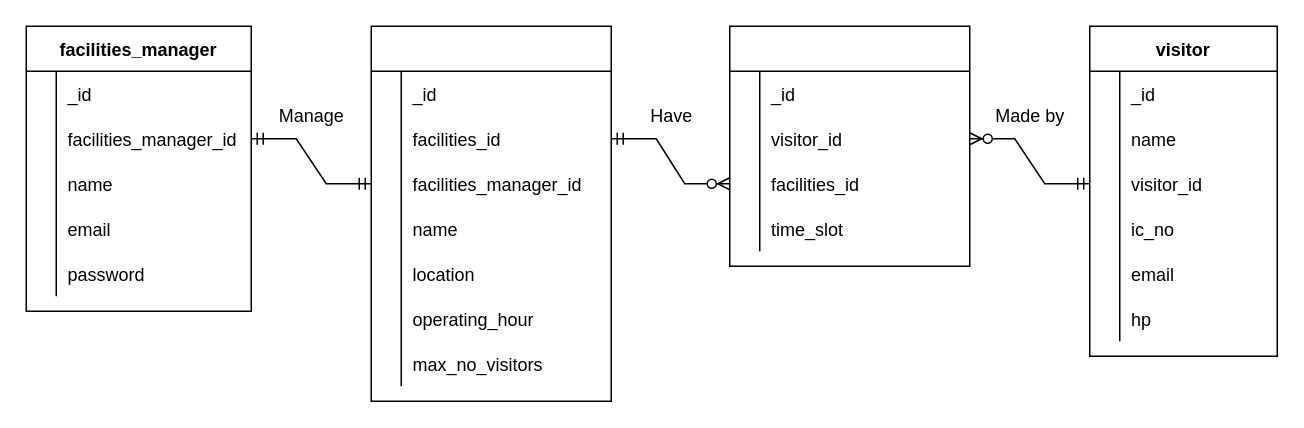
Some shapes in this 1304 by 428 pixel diagram are drawn without their labels. Here are the shapes that lost their labels. From the top down, the box of each, then its label:
(728, 25, 970, 266): booking_request
(370, 25, 611, 401): facilities_info
